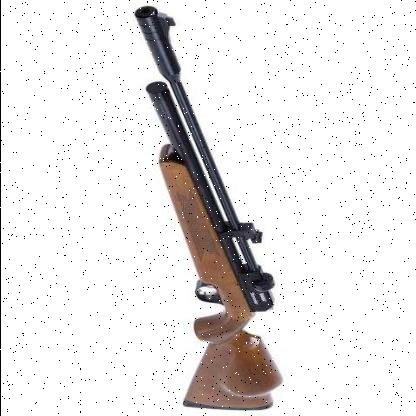rifle: (129, 3, 292, 415)
